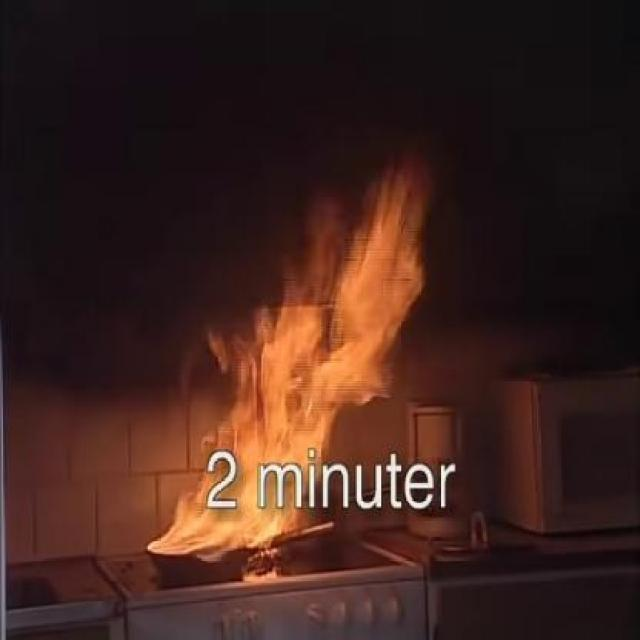fire: (178, 316, 334, 546)
smoke: (302, 172, 502, 282), (368, 306, 538, 406)
